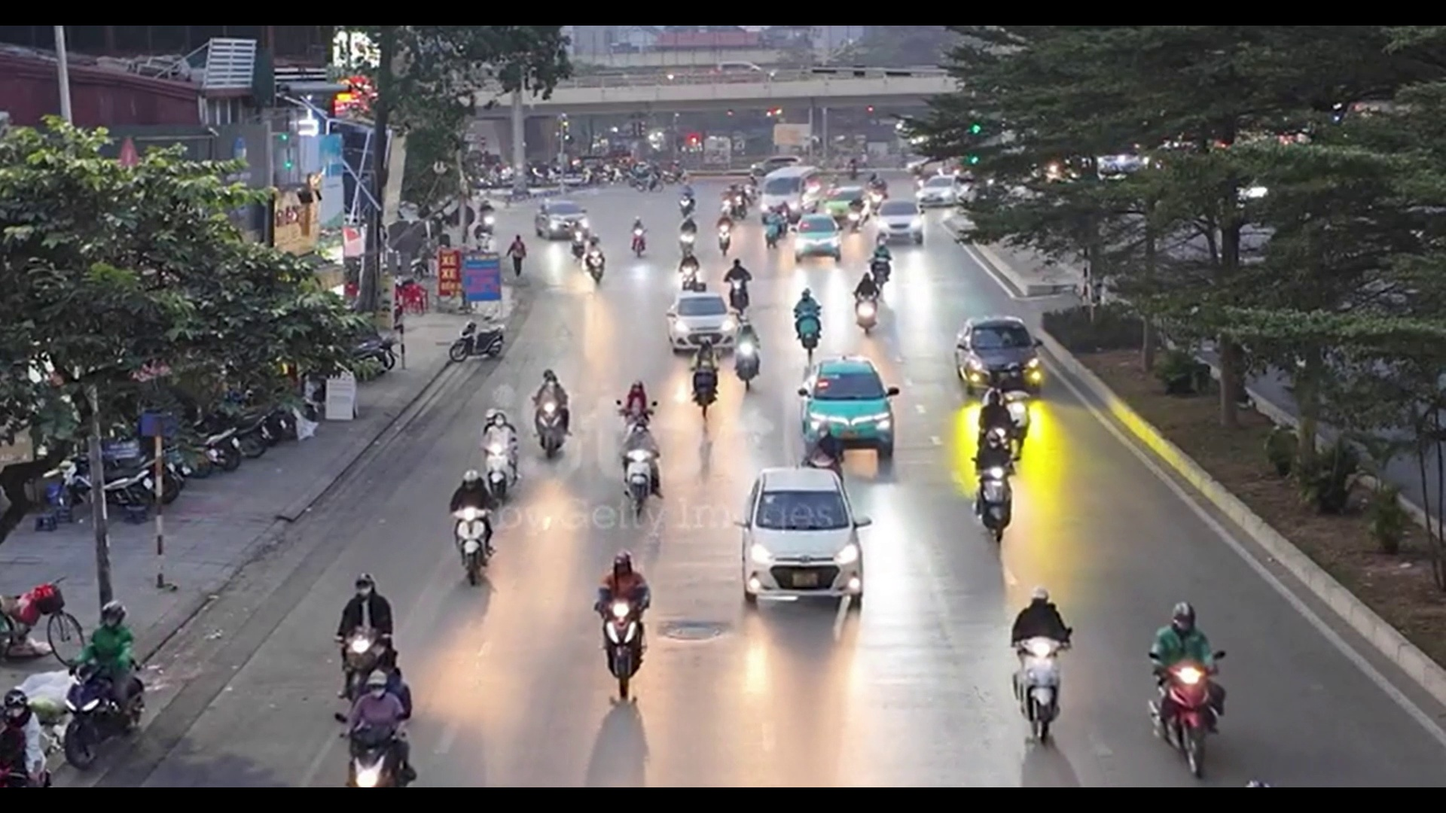car: (735, 467, 866, 610), (798, 356, 898, 475), (955, 316, 1040, 394), (665, 290, 736, 356), (534, 201, 585, 241)
motorcycle: (1150, 647, 1225, 772), (336, 692, 416, 787), (0, 581, 87, 667), (1012, 644, 1064, 747), (599, 604, 647, 706), (450, 504, 497, 590), (975, 448, 1014, 535), (621, 440, 660, 513)
